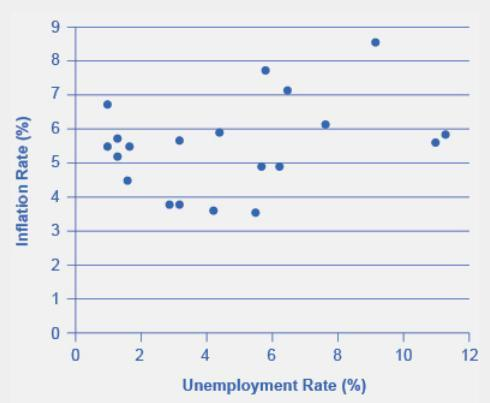axis: (64, 327, 478, 343), (63, 21, 83, 346)
point: (97, 96, 119, 114), (173, 196, 191, 214), (206, 203, 225, 220), (366, 34, 384, 51), (439, 125, 456, 141), (248, 205, 266, 220), (250, 160, 268, 175), (159, 198, 178, 212), (318, 117, 335, 132), (279, 84, 296, 99), (110, 150, 125, 166), (121, 173, 137, 188), (257, 61, 272, 76), (272, 159, 287, 174), (99, 139, 115, 153), (427, 135, 443, 149), (173, 134, 188, 148), (210, 126, 227, 138), (111, 132, 125, 146), (123, 141, 138, 152)
